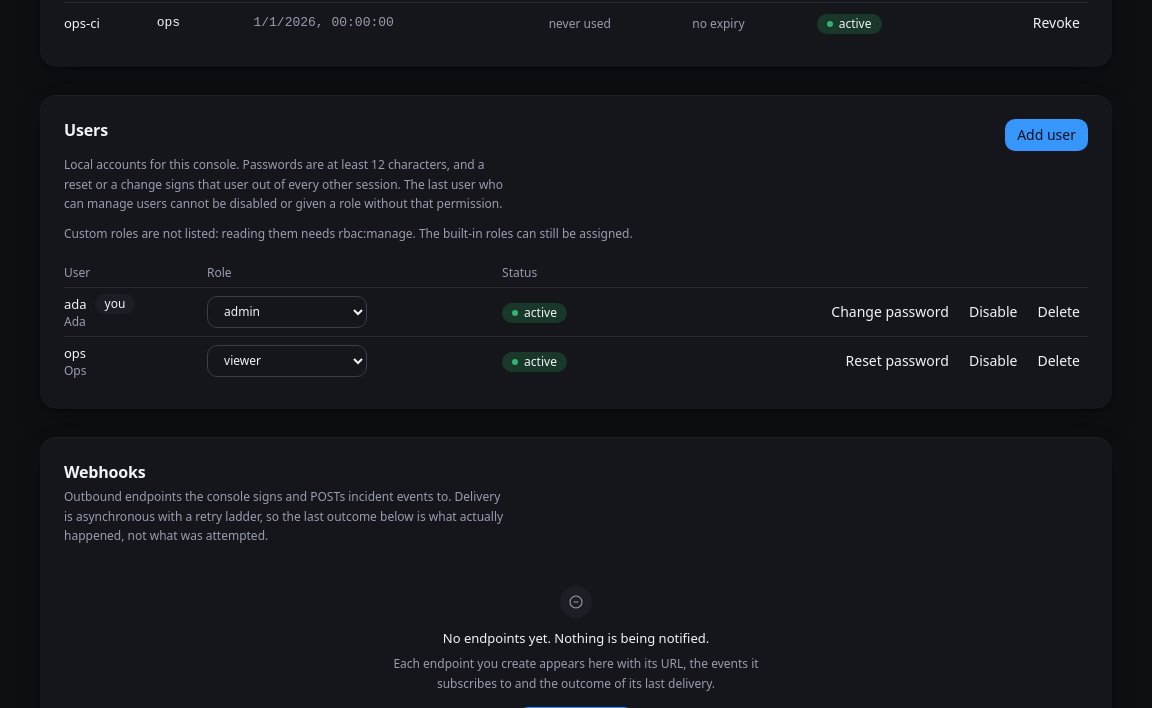
users section gating › re-reads the tokens after disabling a user, since the server revoked theirs
(page scrolled)
Expected: the text "active" is shown, left=817, top=14, right=882, bottom=34
Click the button with aria-label "Disable ops" at (993, 361), box left=961, top=347, right=1025, bottom=375
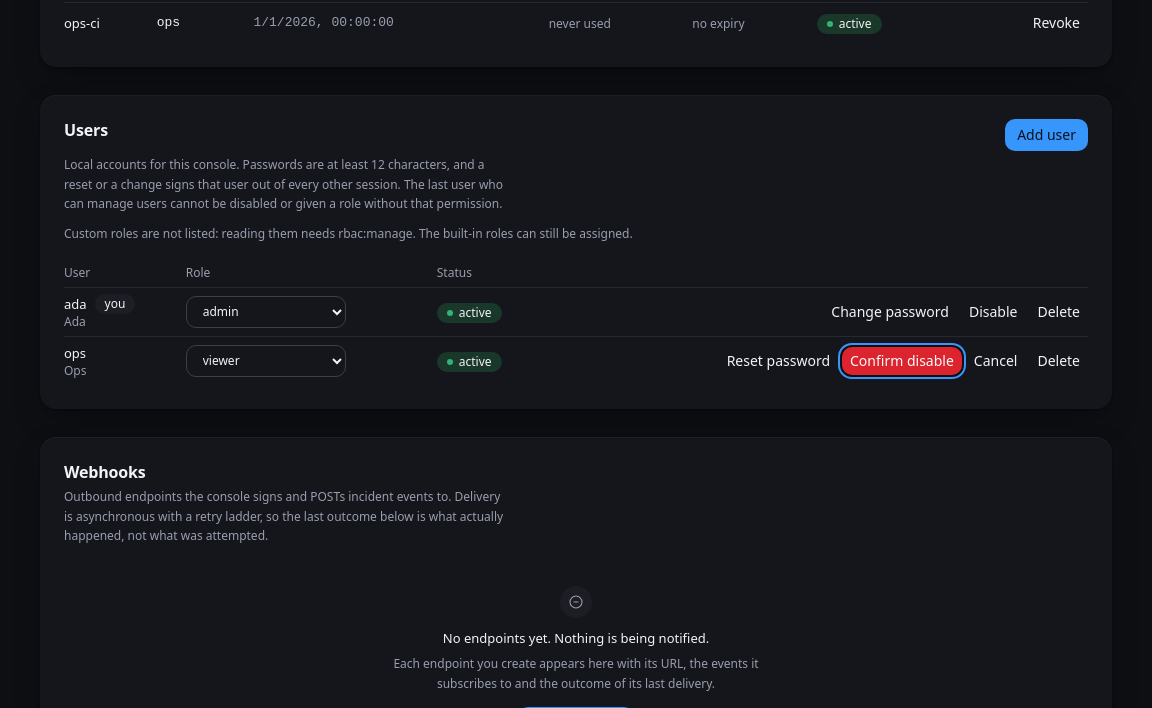
Click the button with aria-label "Confirm disabling ops" at (902, 361), box left=842, top=347, right=962, bottom=375
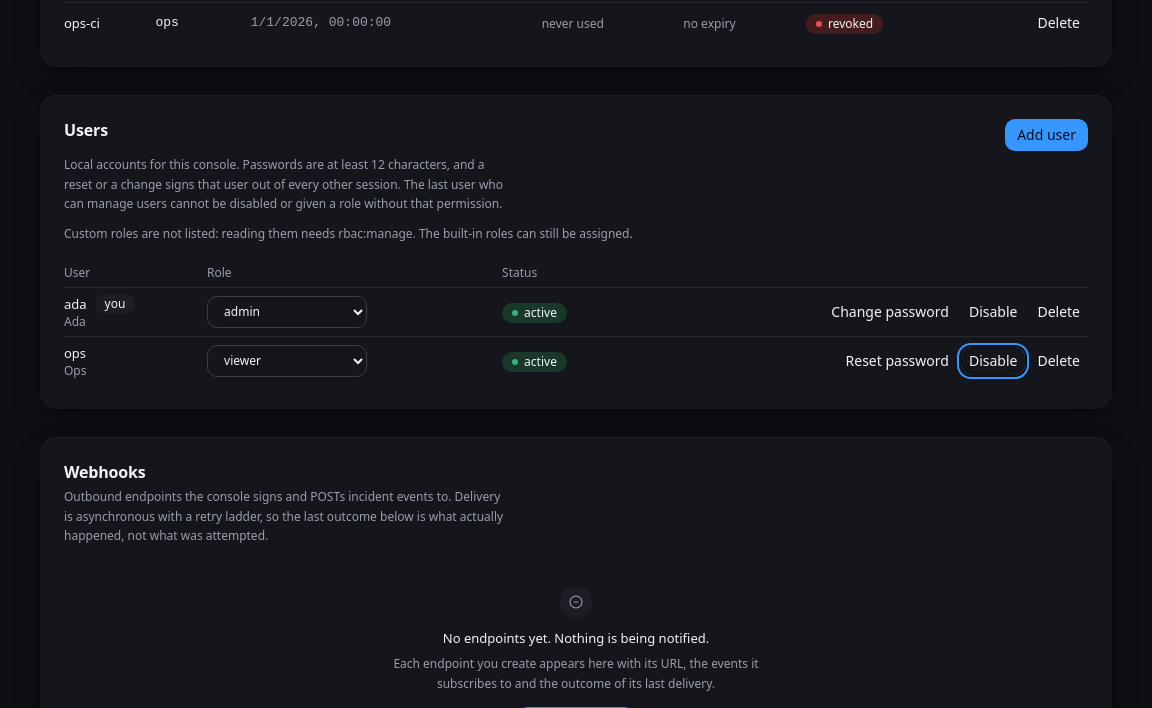
Now the text "revoked" is shown, box left=806, top=14, right=883, bottom=34
